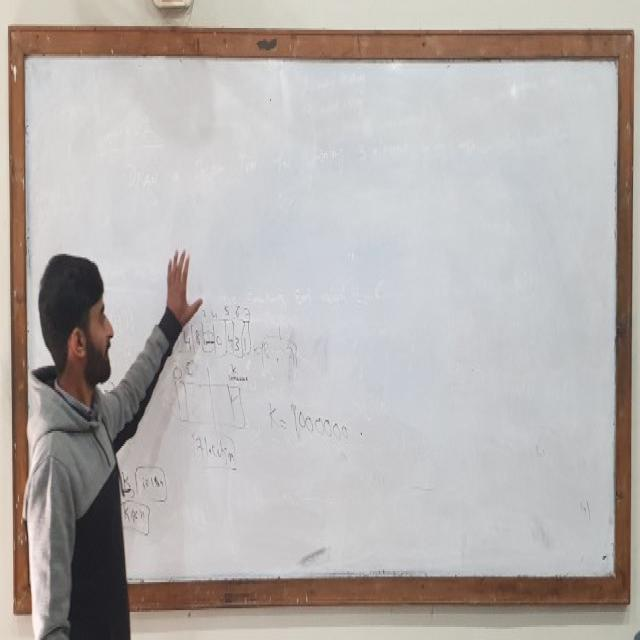Instructor: (22, 256, 135, 640)
White-board: (18, 38, 626, 597)
